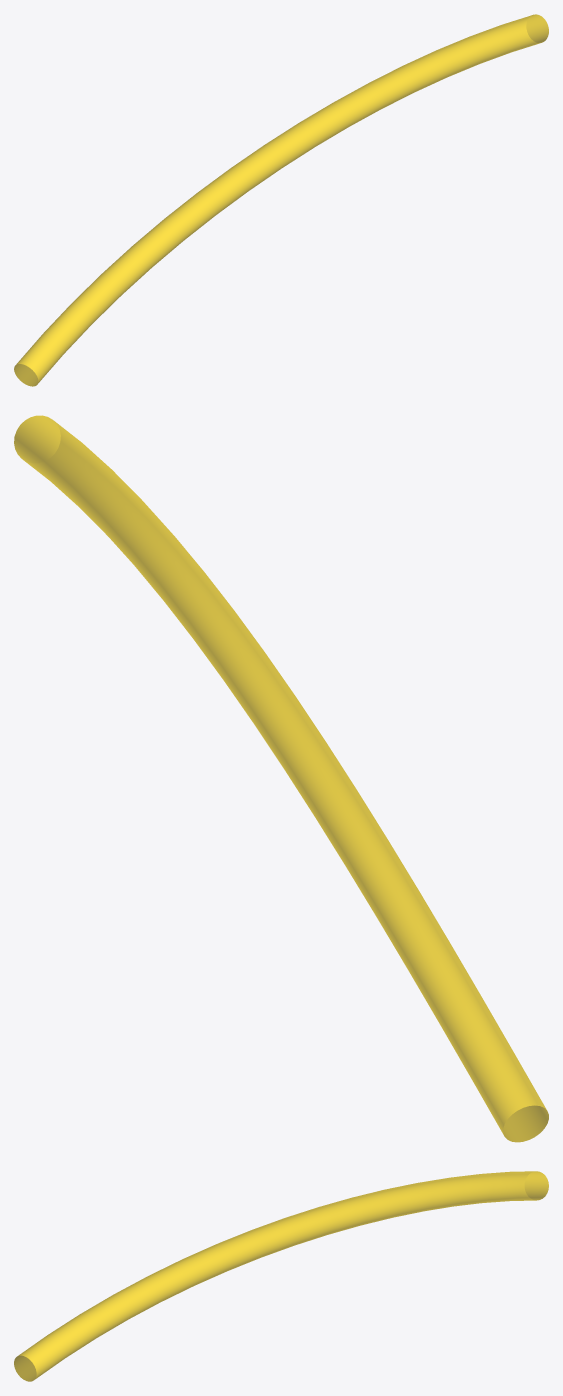
File: Event_419990632_track_42.fbx
3 renders of one model, top to bottom at view 1: azimuth 90°, elevation 25°; view 2: azimuth 150°, elevation 25°; view 3: azimuth 270°, elevation 25°, orthographic. The views are drawn at different scales.
Parts seen in each view (by area): view 1: Model; view 2: Model; view 3: Model.
Part boxes in pixels (left/top/right/bottom): Model: left=14, top=14, right=548, bottom=386; Model: left=14, top=415, right=548, bottom=1142; Model: left=14, top=1171, right=548, bottom=1381.
Bounding box in the file's own units: 0.8798 × 0.1838 × 0.7297.
